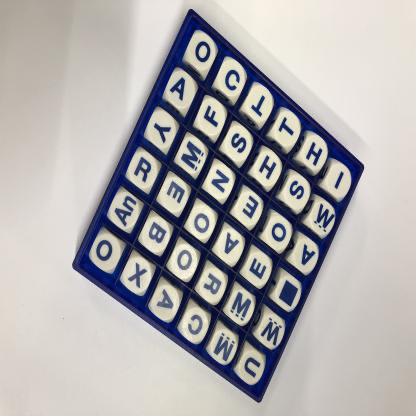a: (168, 72, 197, 108), (153, 286, 180, 320), (219, 229, 244, 263), (296, 239, 320, 271)
an: (111, 193, 140, 230)
b: (144, 217, 170, 254)
c: (183, 306, 209, 343), (219, 62, 246, 97)
e: (163, 176, 189, 213), (247, 252, 272, 288), (237, 192, 262, 226)
f: (199, 100, 225, 134)
h: (256, 151, 282, 187), (303, 136, 329, 170)
i: (327, 165, 353, 196)
m: (180, 137, 207, 174), (212, 330, 238, 365), (230, 290, 255, 324)
n: (208, 165, 235, 199)
o: (94, 235, 121, 272), (189, 34, 217, 69), (172, 243, 198, 278), (191, 206, 216, 239), (268, 218, 293, 250)
r: (130, 152, 158, 189), (201, 267, 227, 303)
s: (226, 126, 252, 160), (286, 176, 311, 210)
t: (275, 112, 301, 147), (248, 88, 273, 120)
u: (239, 351, 265, 384)
w: (261, 314, 286, 347), (312, 201, 336, 234)
wild: (277, 277, 302, 309)
x: (126, 256, 152, 293)
y: (148, 113, 176, 148)
